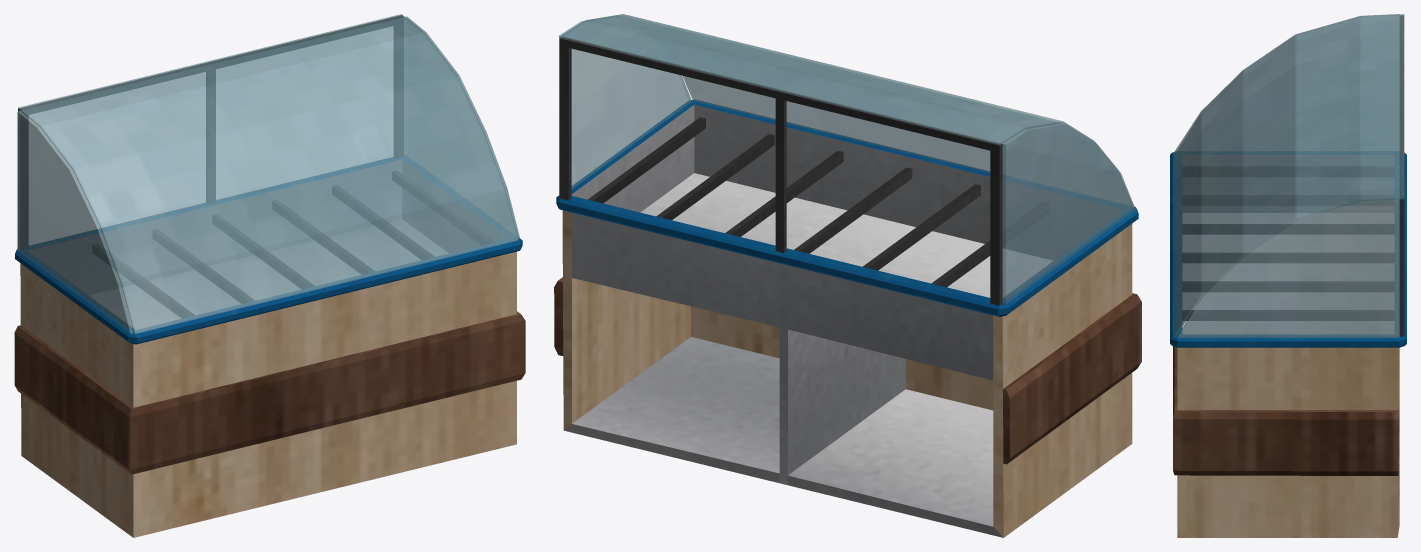
File: counter_ingredients.fbx
3 renders of one model, left to right at view 1: azimuth 30°, elevation 25°; view 2: azimuth 150°, elevation 25°; view 3: azimuth 270°, elevation 25°, orthographic. The views are drawn at different scales.
Visible parts, largest first — view 1: Counter Ingredients, Glass; view 2: Counter Ingredients, Glass; view 3: Counter Ingredients, Glass.
Boxes of the visible parts, x1,y1,x2,y2 form: Counter Ingredients: (14, 15, 525, 537); Glass: (17, 14, 519, 334); Counter Ingredients: (554, 36, 1141, 537); Glass: (559, 14, 1135, 304); Counter Ingredients: (1170, 15, 1406, 537); Glass: (1174, 14, 1404, 337).
Bounding box in the file's own units: 2.27 × 1.19 × 1.89.
